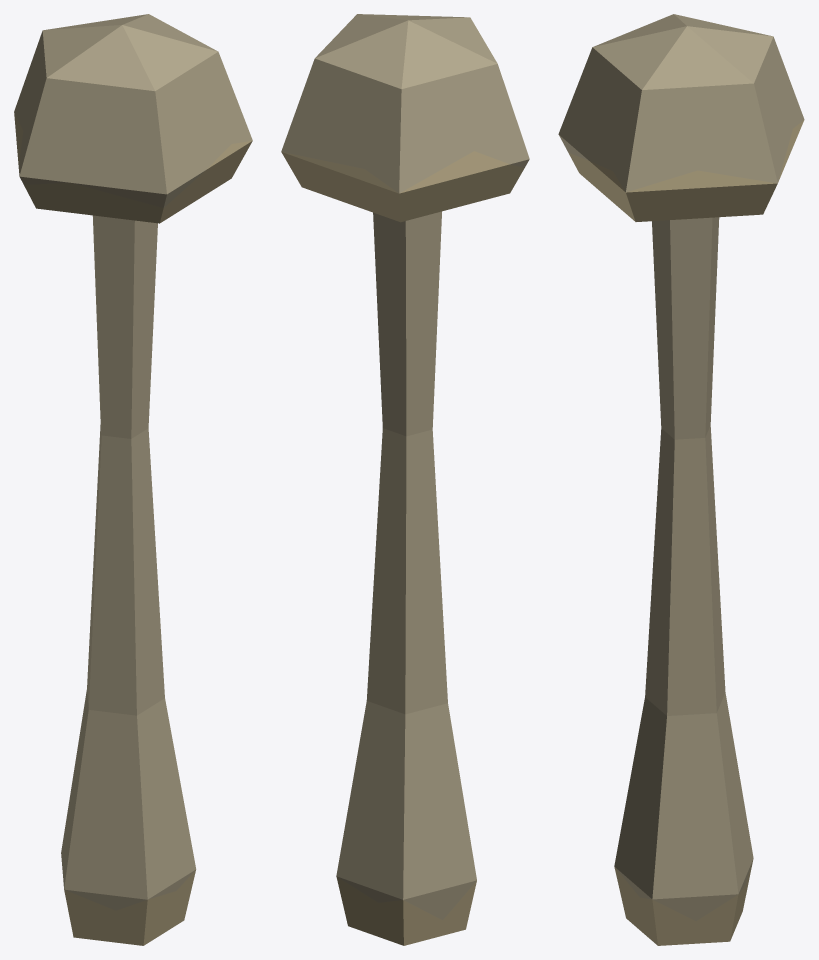
Rendered from Mushroom_08.FBX.
3 views of the same model, side by side, from view 1: azimuth 30°, elevation 25°; view 2: azimuth 150°, elevation 25°; view 3: azimuth 270°, elevation 25° (orthographic).
Visible parts, largest first — view 1: Mushroom_08; view 2: Mushroom_08; view 3: Mushroom_08.
Boxes of the visible parts, bbox=[...] form: Mushroom_08: bbox=[14, 14, 252, 945]; Mushroom_08: bbox=[281, 14, 529, 945]; Mushroom_08: bbox=[558, 14, 804, 945].
Size of the model in its own units: 0.2477 by 1 by 0.2491.
